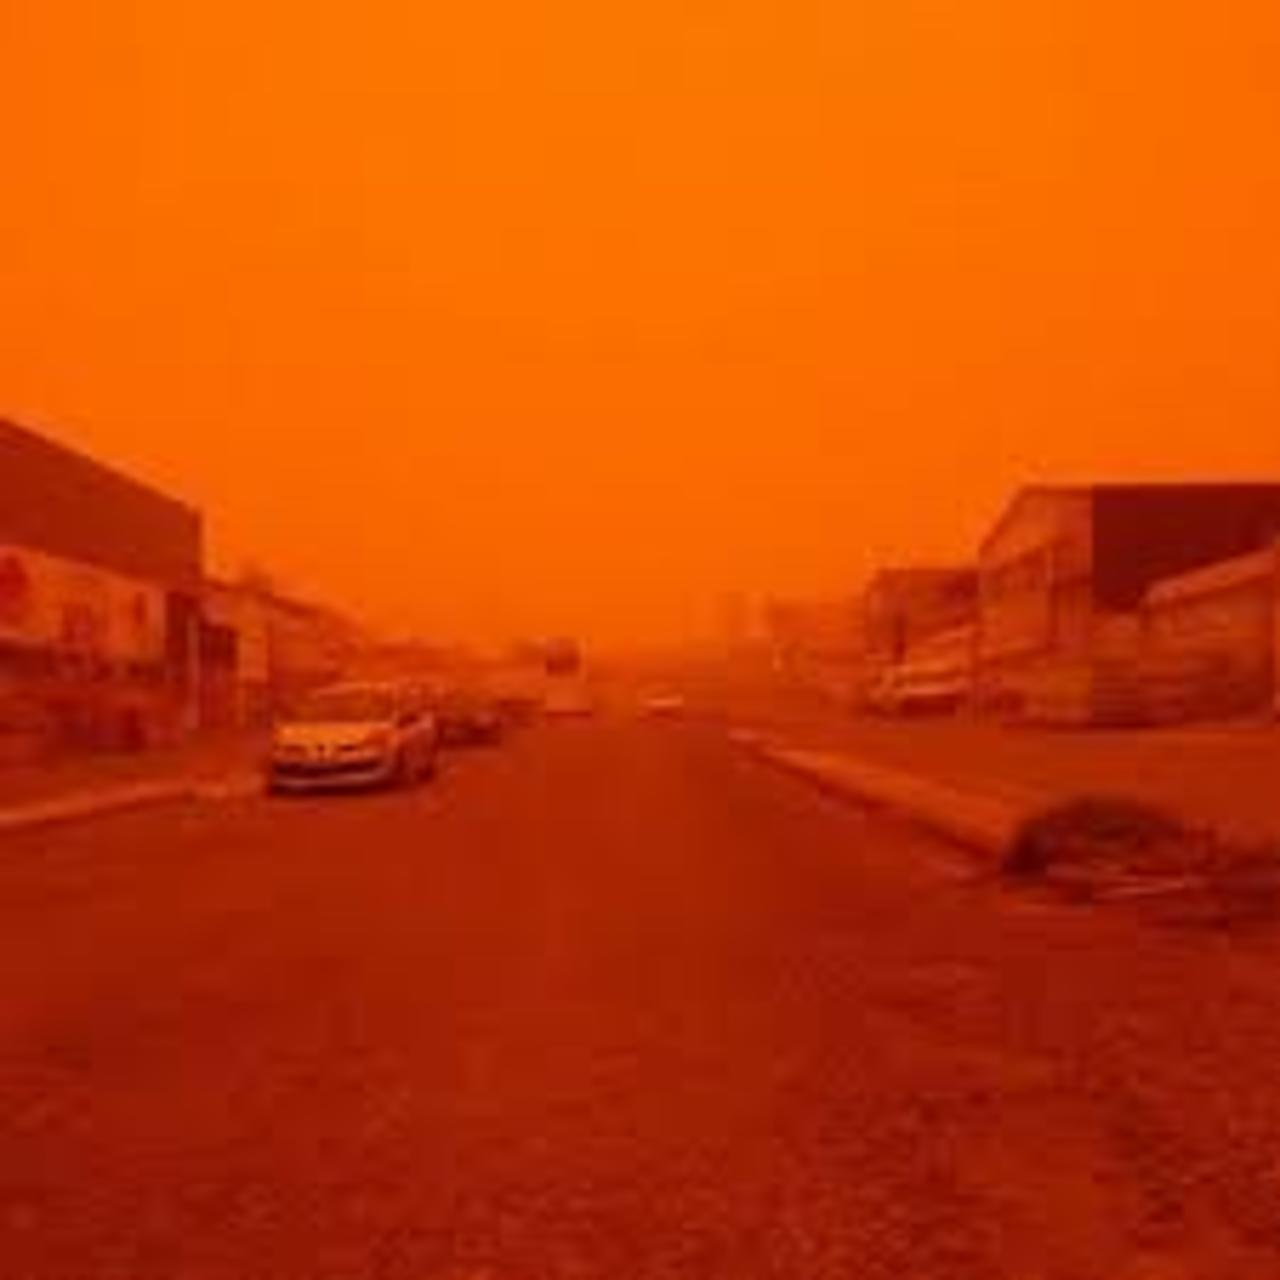bus: (542, 636, 595, 722)
car: (272, 679, 431, 779), (433, 685, 501, 748), (632, 681, 681, 727)
